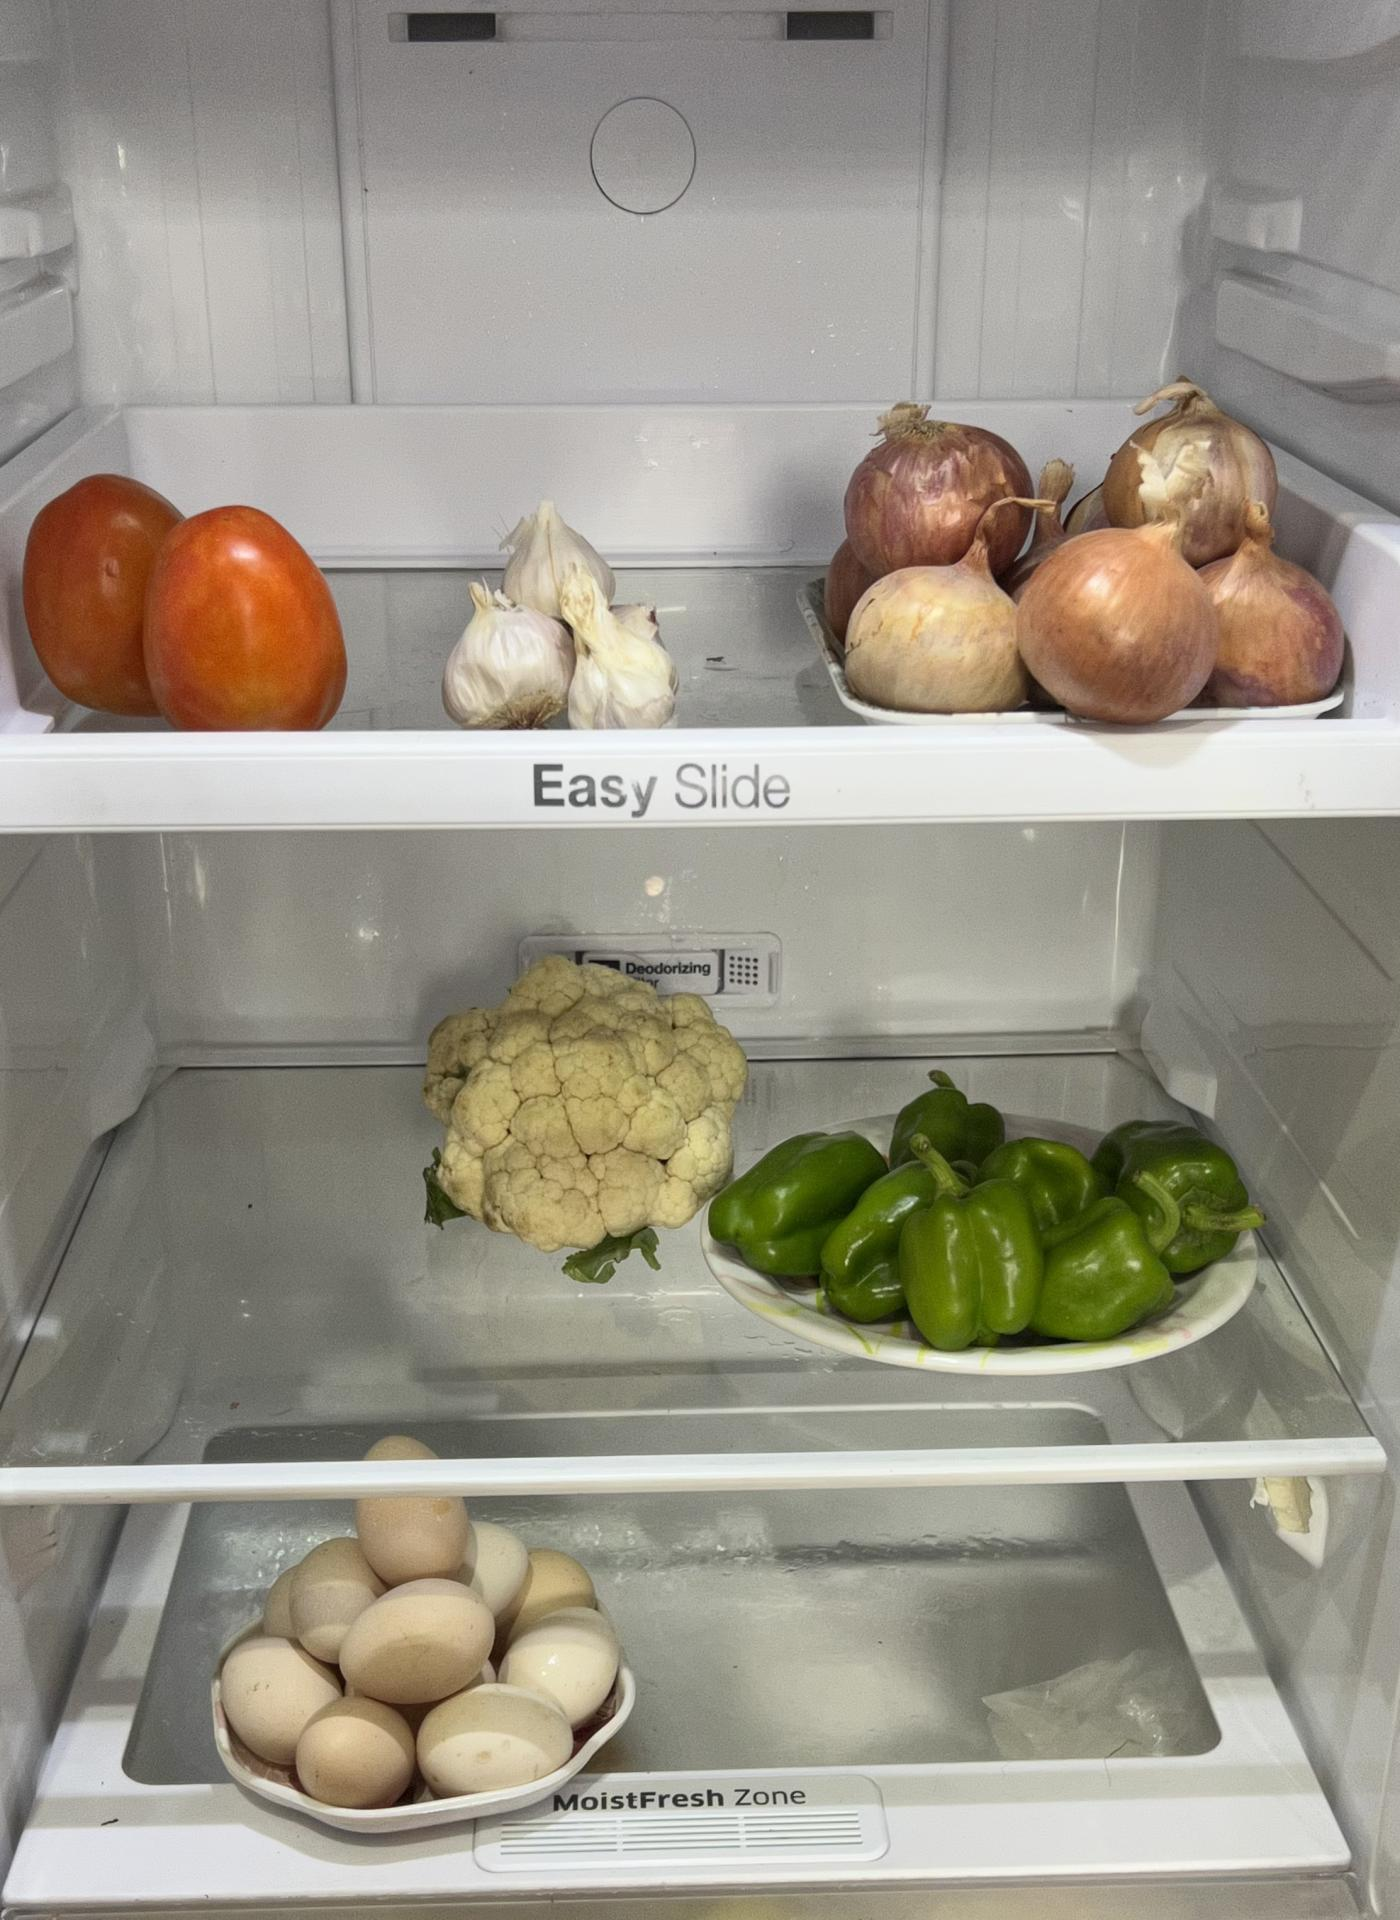capsicum: (693, 1082, 1264, 1354)
cauliflower: (429, 944, 747, 1240)
egg: (222, 1483, 652, 1819)
garlic: (434, 493, 683, 726)
onion: (826, 402, 1366, 708)
tomato: (27, 455, 362, 741)
